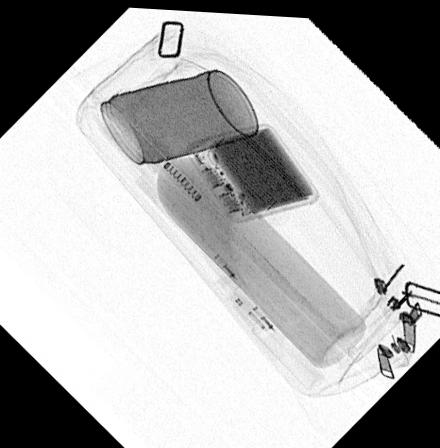Powerbank: (184, 119, 318, 220)
